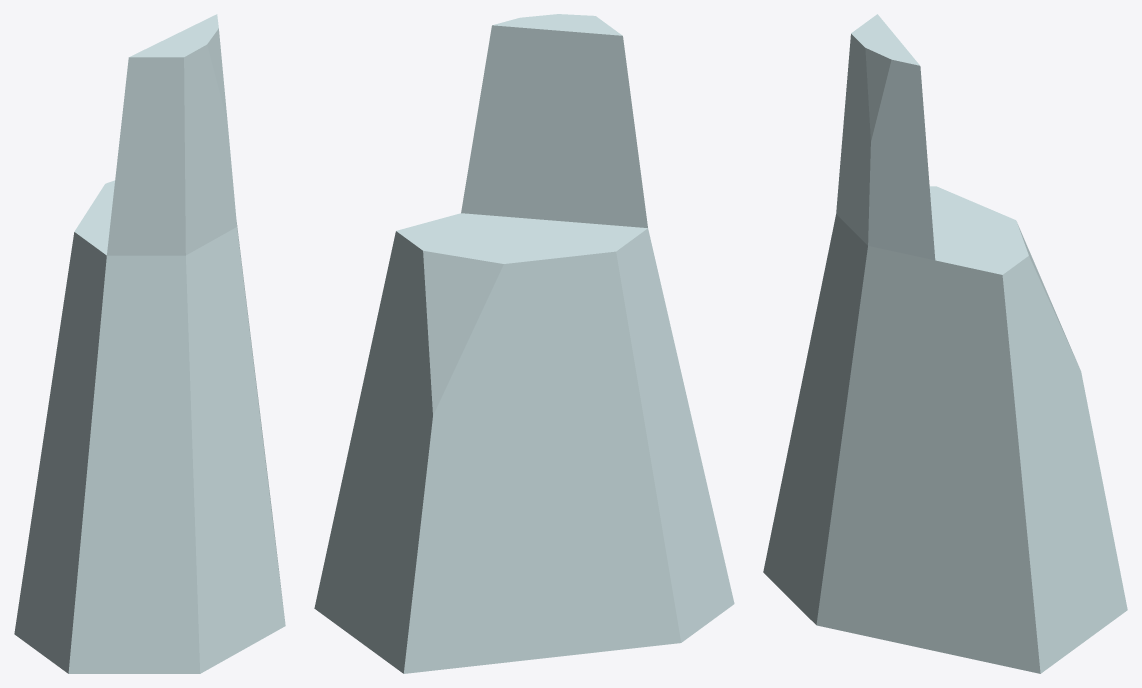
The model's file is stone_tallD.glb.
3 views of the same model, side by side, from view 1: azimuth 30°, elevation 25°; view 2: azimuth 150°, elevation 25°; view 3: azimuth 270°, elevation 25° (orthographic). The views are drawn at different scales.
Visible parts, largest first — view 1: stone_tallD; view 2: stone_tallD; view 3: stone_tallD.
Boxes of the visible parts, <box> form: stone_tallD: <box>14,14,285,673</box>; stone_tallD: <box>314,14,734,673</box>; stone_tallD: <box>763,14,1127,673</box>.
Size of the model in its own units: 0.4428 by 0.7721 by 0.4615.
Materials: 1 (1 with a texture image).
